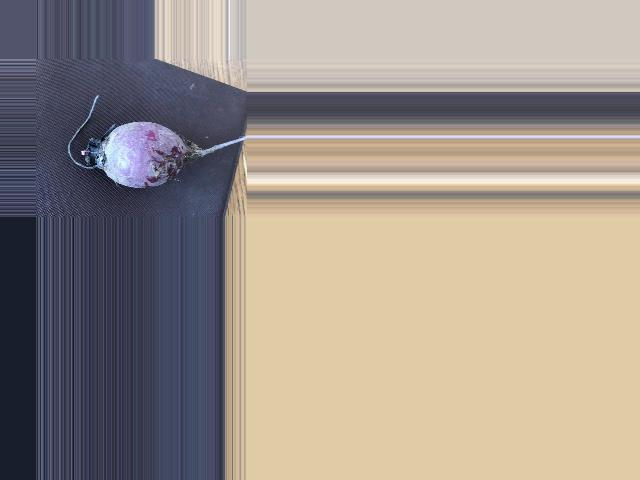beet: (68, 95, 248, 189)
